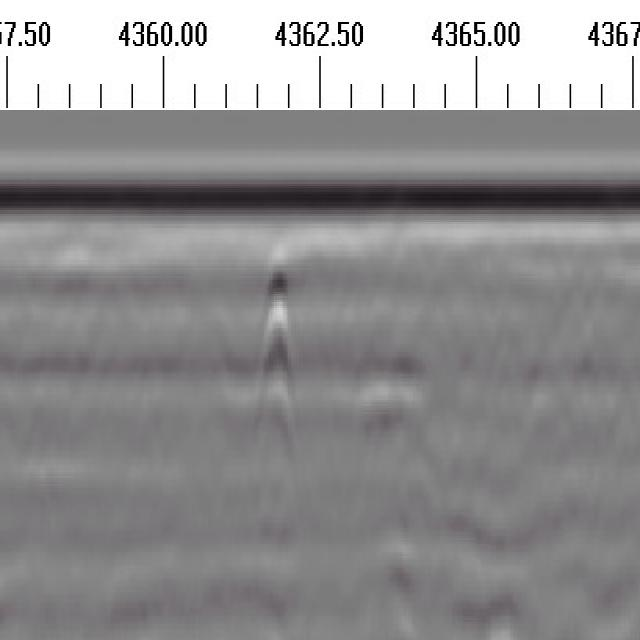crack: (245, 237, 303, 455)
